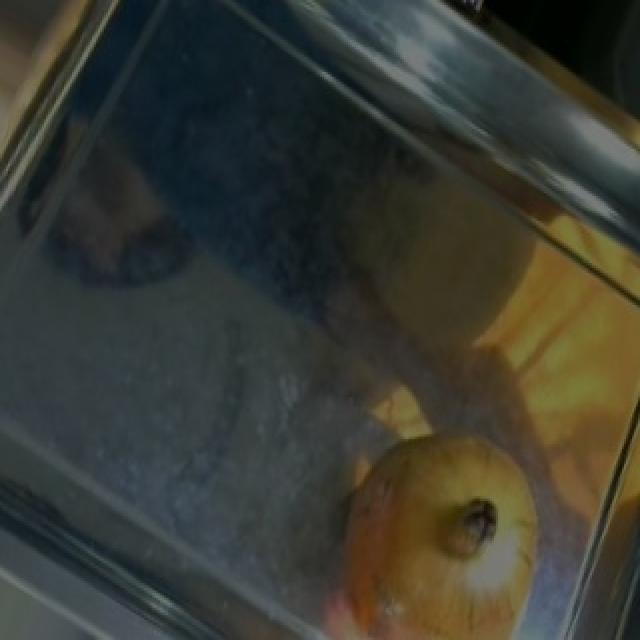fruit: (298, 392, 572, 640)
